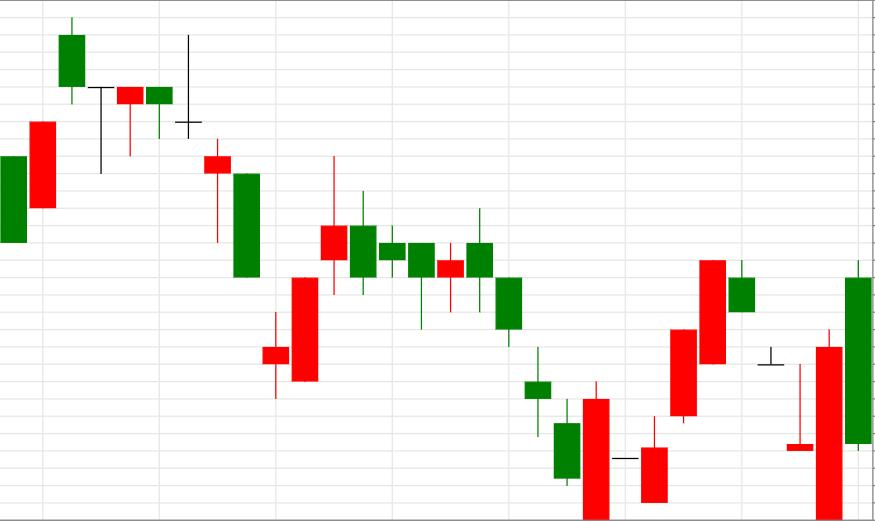bullish_engulfing_rise: (350, 191, 609, 520)
